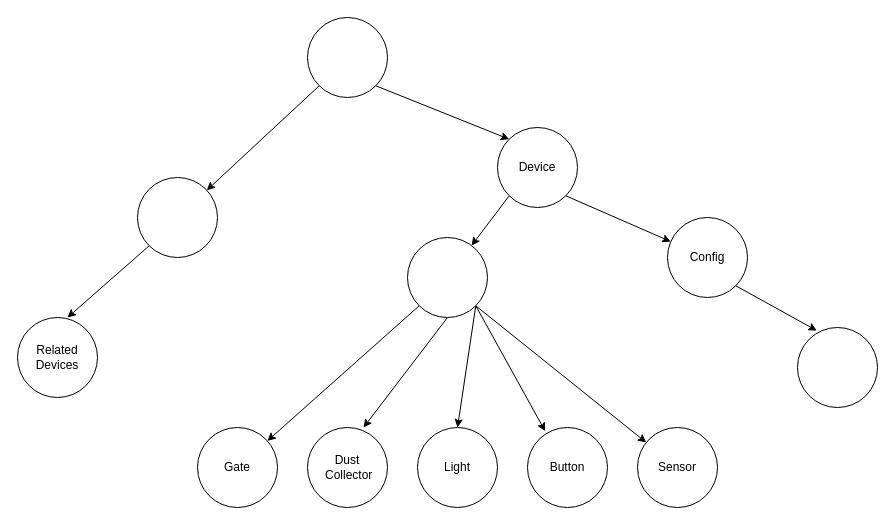
Some shapes in this 895 by 525 pixel diagram are drawn without their labels. The centre of each missing label's shape, as x and y in pixels:
"Pins" belongs at point (837, 367).
"Shop" belongs at point (347, 57).
"Tools" belongs at point (177, 217).
"Type" belongs at point (447, 277).
